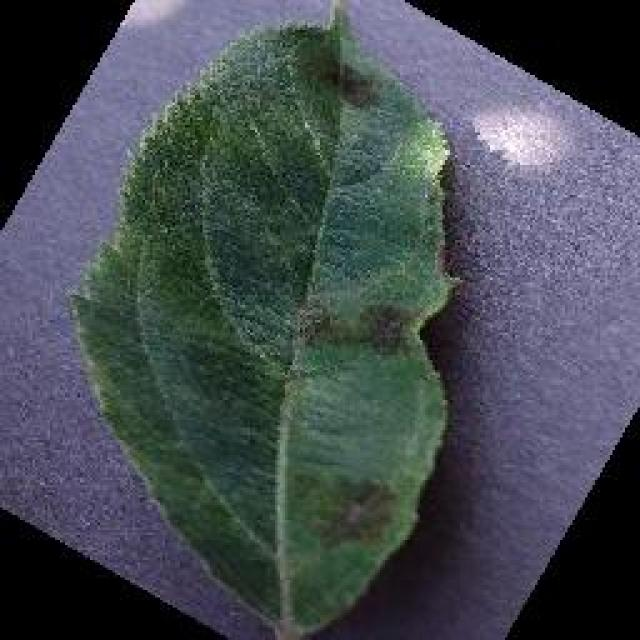apple scab disease: (65, 2, 465, 638)
